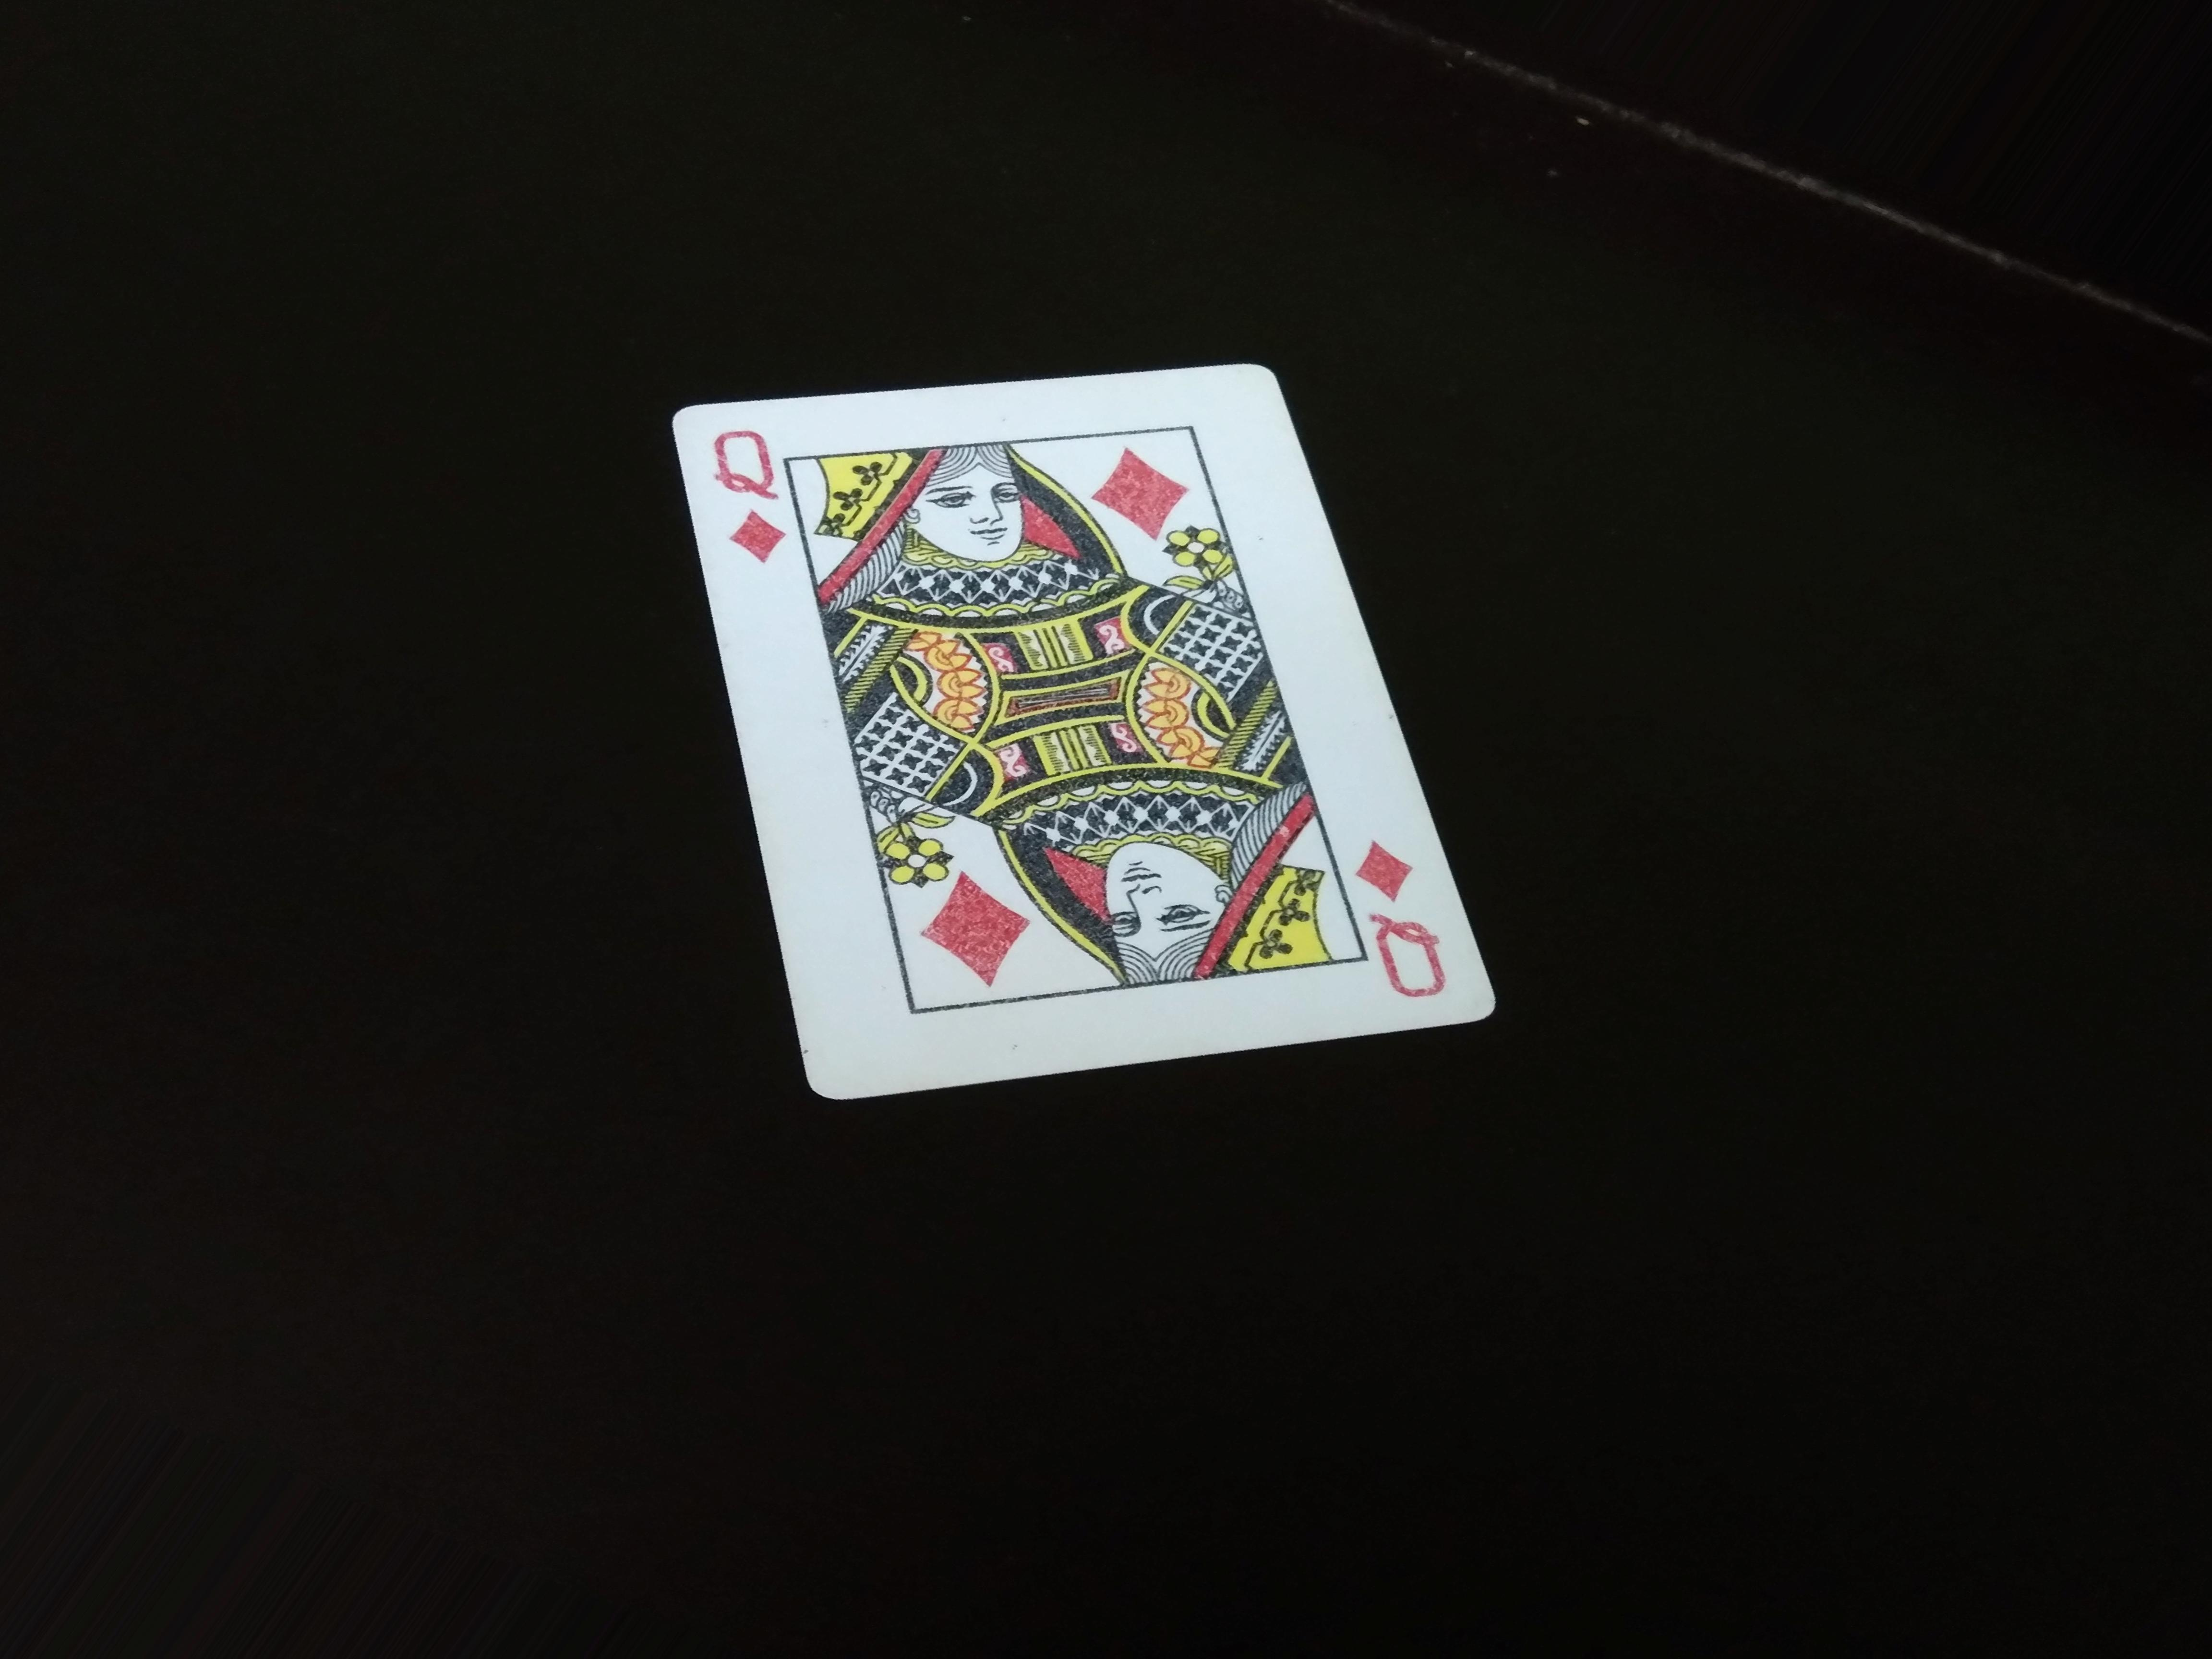QD: (693, 401, 787, 575)
